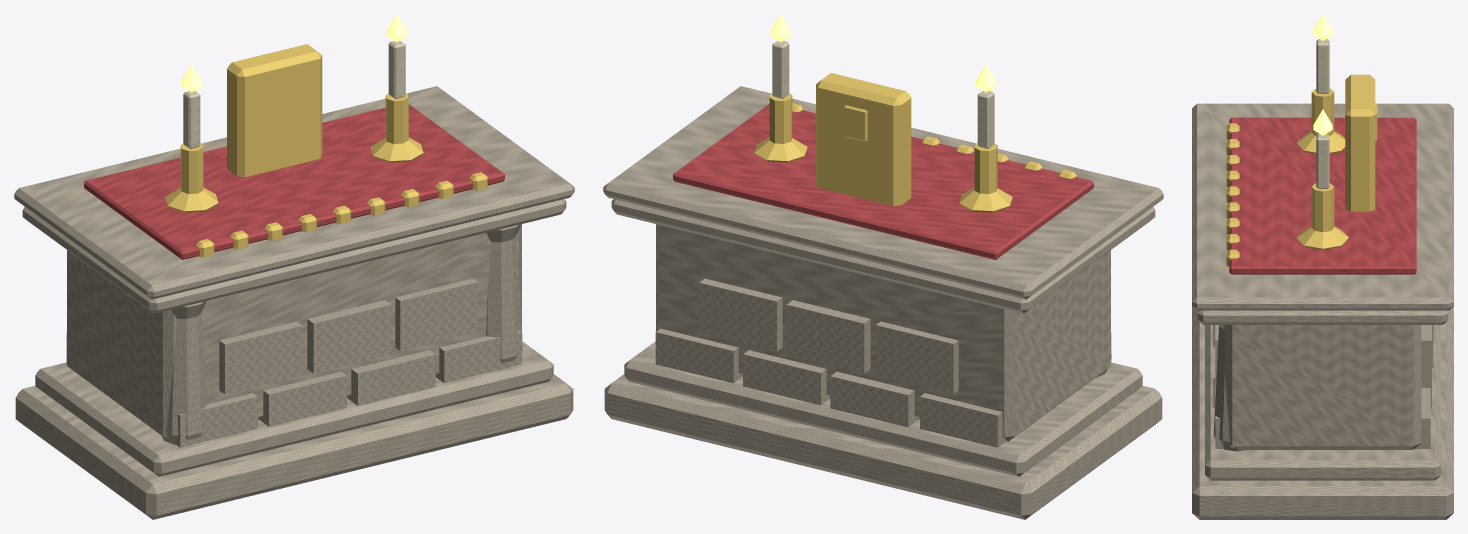
Rendered from fantasy-mmo-city-and-townsfolk-cathedral-altar-32fce994__32757.glb.
3 renders of one model, left to right at view 1: azimuth 30°, elevation 25°; view 2: azimuth 150°, elevation 25°; view 3: azimuth 270°, elevation 25°, orthographic. The views are drawn at different scales.
Visible parts, largest first — view 1: cathedral-altar; view 2: cathedral-altar; view 3: cathedral-altar.
Part boxes in pixels (box(x1,y1,x2,y2)): cathedral-altar: box(14, 14, 574, 519); cathedral-altar: box(603, 14, 1163, 519); cathedral-altar: box(1192, 14, 1453, 519).
Size of the model in its own units: 2.5 by 2.14 by 1.4.
Materials: 5 (3 with a texture image).
